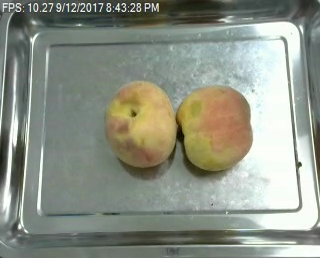Peach: (177, 85, 253, 171), (103, 80, 176, 167)
